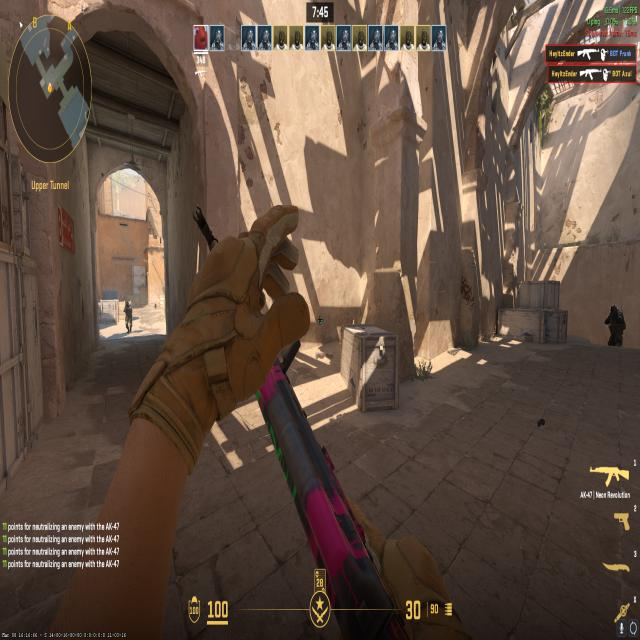ct: (602, 303, 627, 349), (122, 296, 134, 332)
